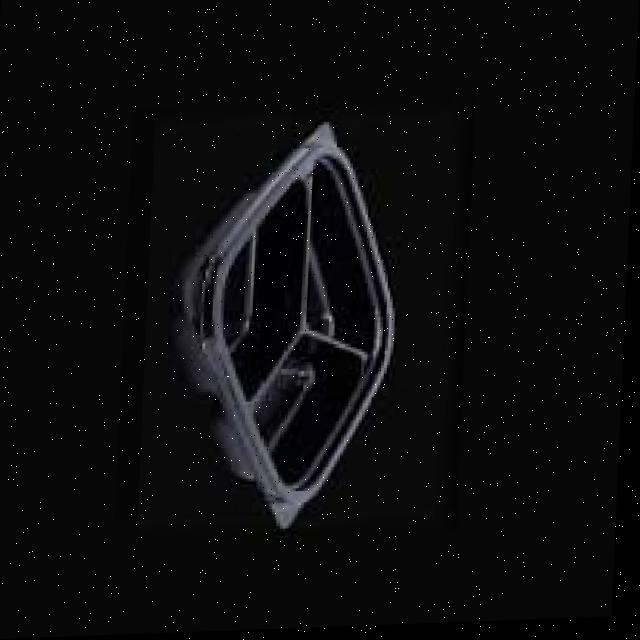disposable: (155, 127, 419, 543)
